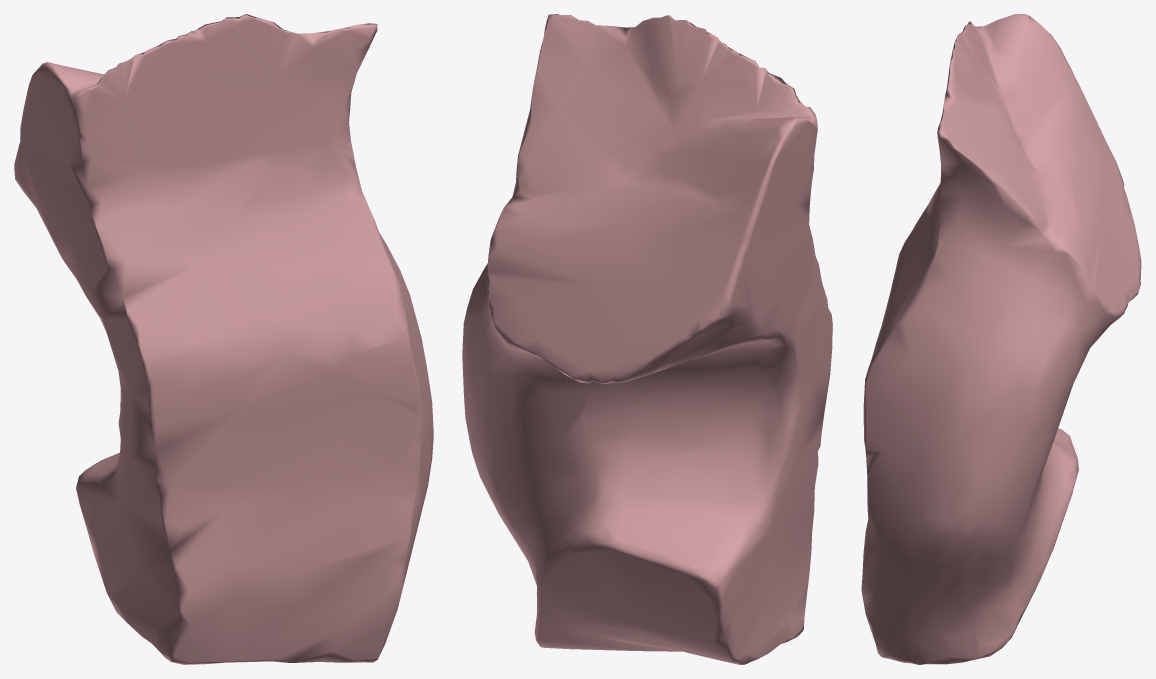
The model's file is fma61000_mm1274.glb.
3 renders of one model, left to right at view 1: azimuth 30°, elevation 25°; view 2: azimuth 150°, elevation 25°; view 3: azimuth 270°, elevation 25°, orthographic. The views are drawn at different scales.
Visible parts, largest first — view 1: FMA61000_MM1274; view 2: FMA61000_MM1274; view 3: FMA61000_MM1274.
Part boxes in pixels (left/top/right/bottom): FMA61000_MM1274: left=14, top=14, right=433, bottom=664; FMA61000_MM1274: left=462, top=14, right=832, bottom=664; FMA61000_MM1274: left=861, top=14, right=1141, bottom=664.
Size of the model in its own units: 0.0132 by 0.0236 by 0.0105.
